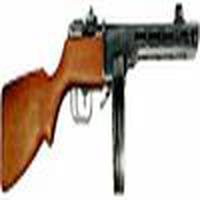gun: (1, 15, 200, 185)
